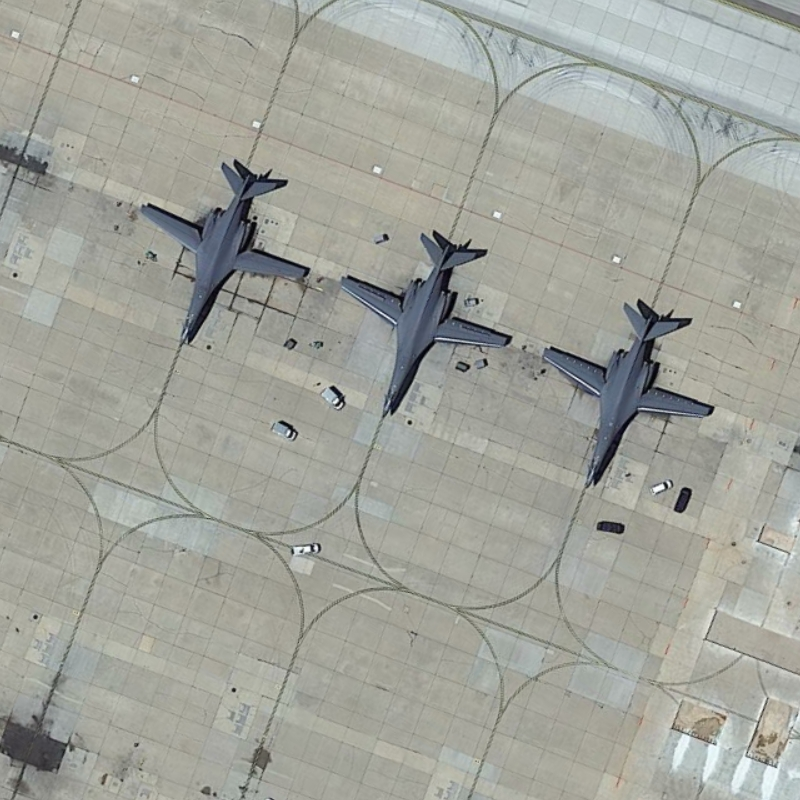A10: (134, 143, 320, 353), (533, 285, 721, 492), (337, 216, 517, 432)
